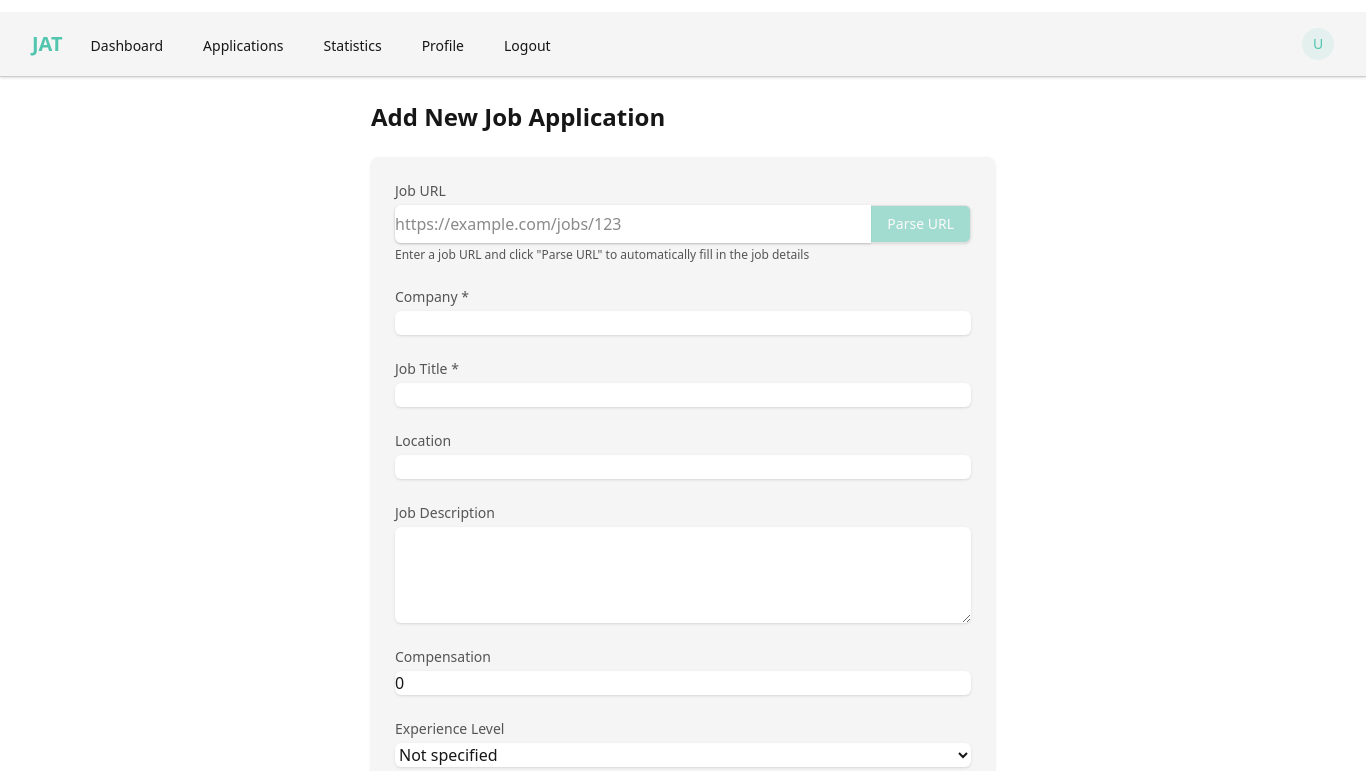
Test: AddApplicationForm › shows error message when parsing fails
Note: Enter URL and click parse
Type "https://invalid-url.com" into the field labelled "Job URL" at point(633, 224), box [395,205,871,243]
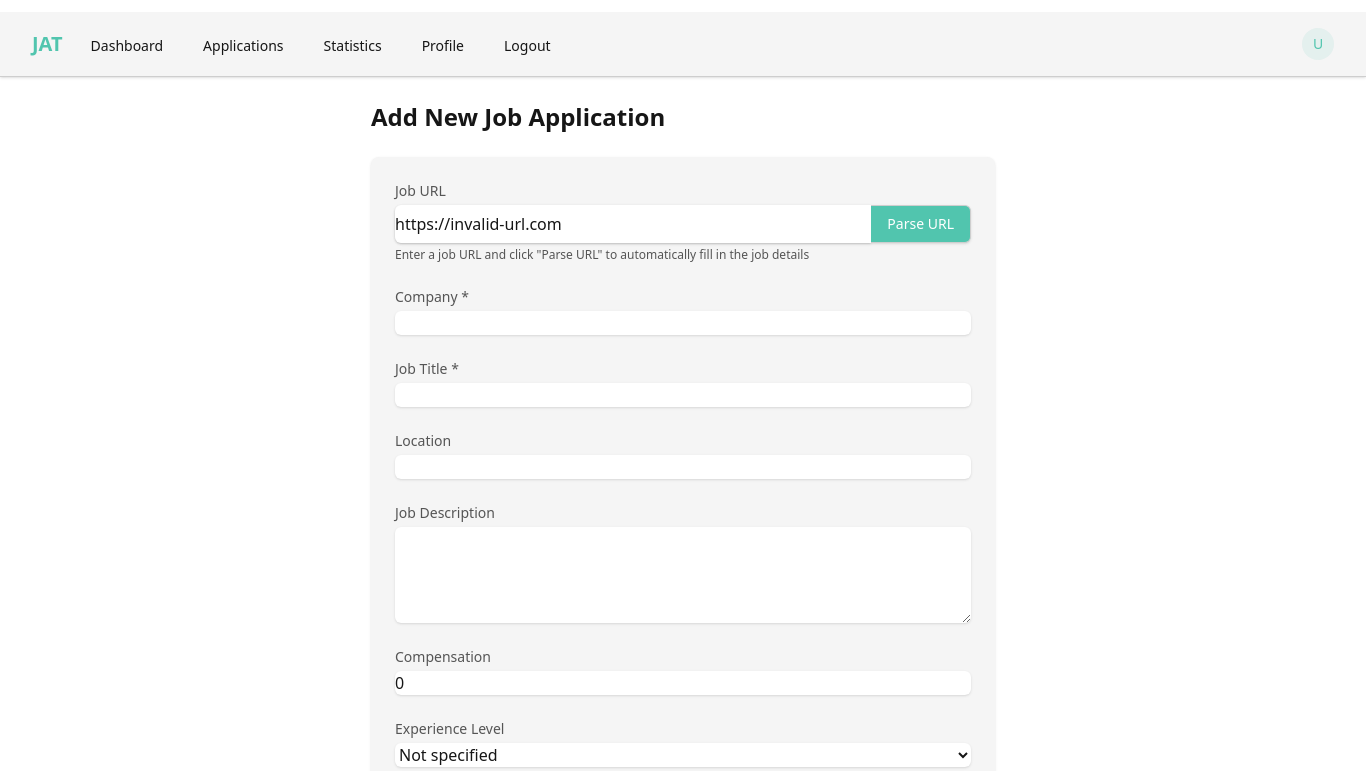
Click the button "Parse URL" at point(921, 224), box [871,205,971,243]
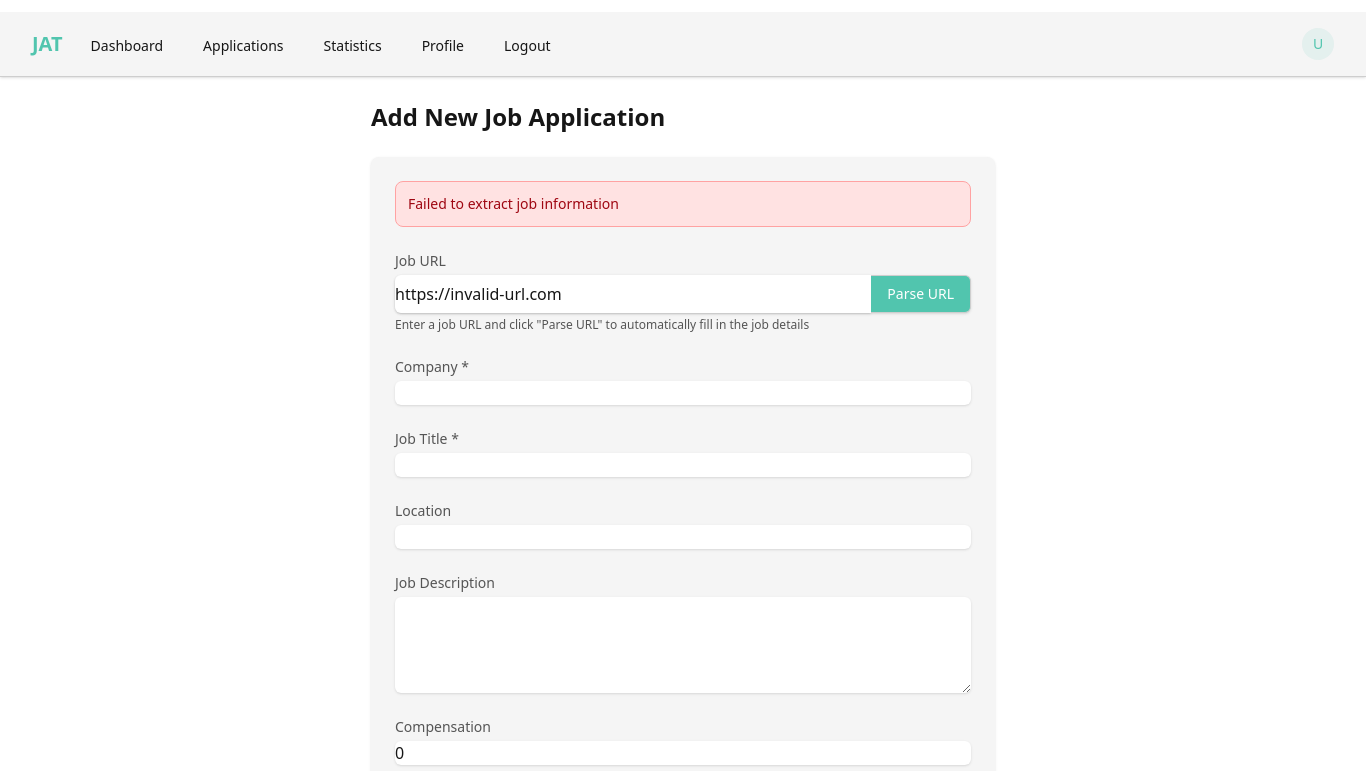
Check: the text "Failed to extract job information" is shown, box [408,194,619,213]
